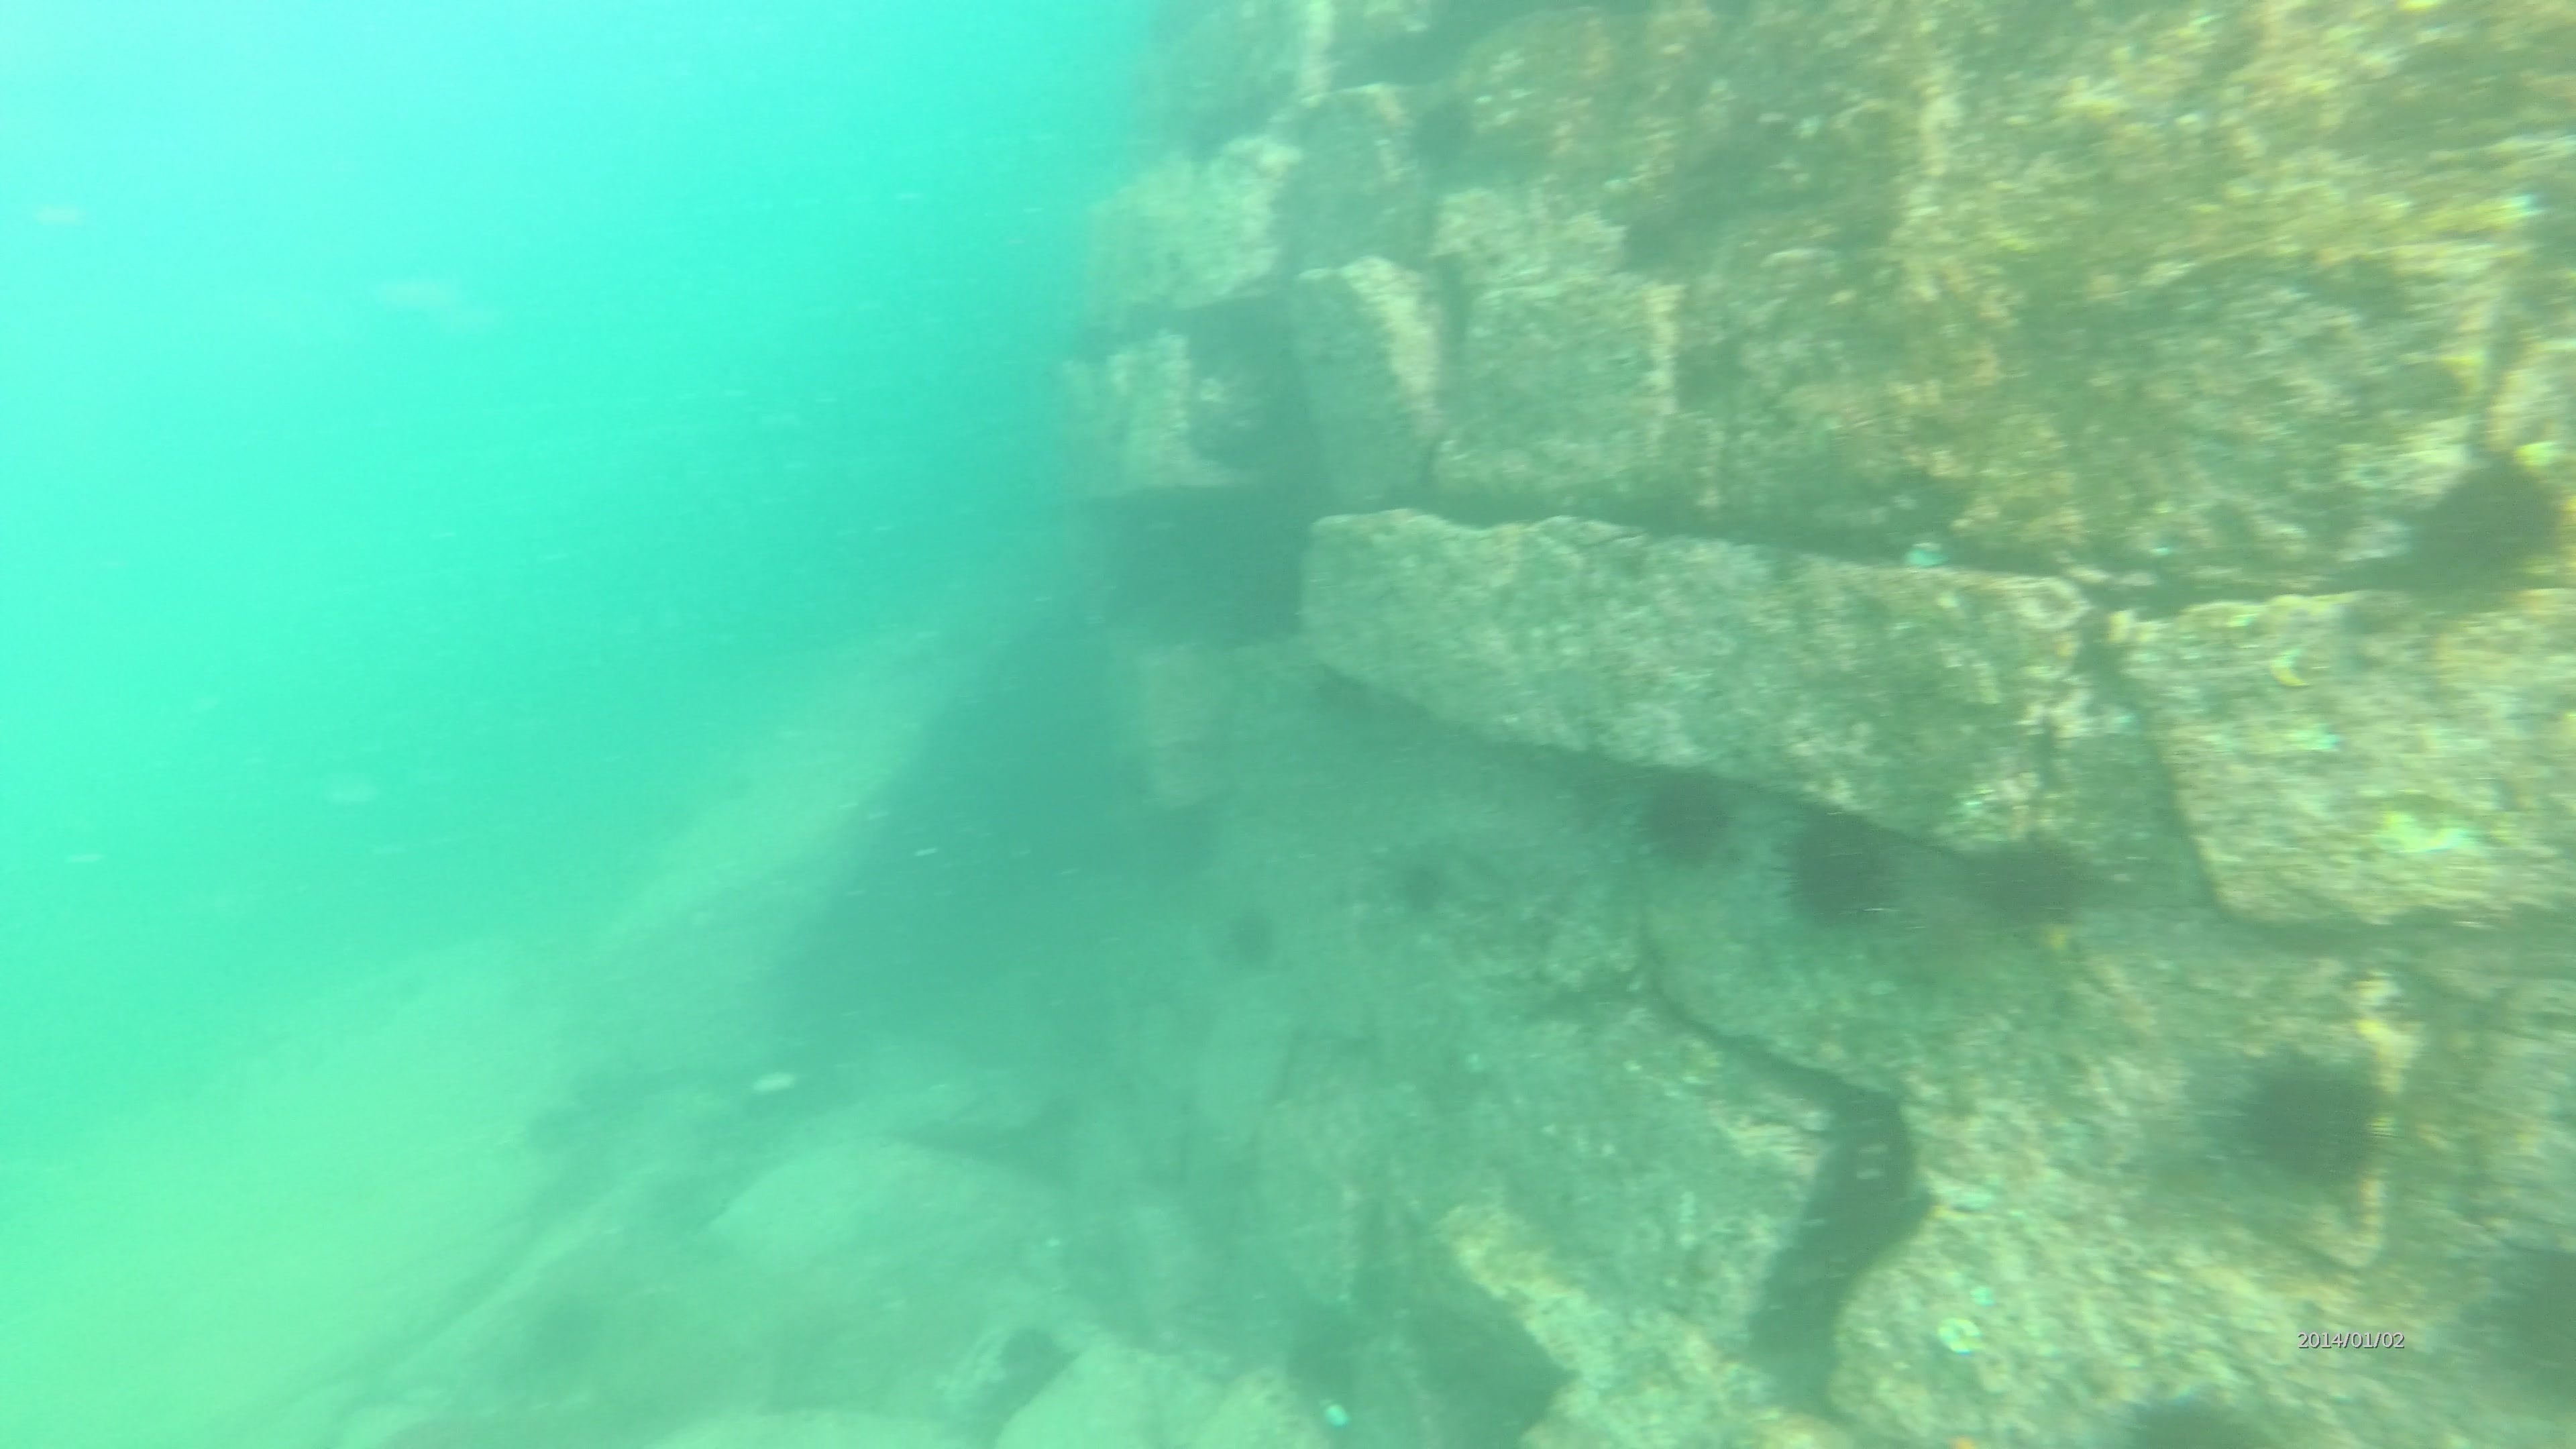echinus: (2396, 453, 2565, 603), (2226, 1047, 2387, 1194), (2475, 1224, 2574, 1415), (1773, 805, 1904, 934), (1966, 828, 2098, 936), (1628, 763, 1741, 872), (987, 1316, 1079, 1407), (1399, 88, 1484, 180), (1382, 842, 1460, 922), (1212, 897, 1286, 975)
